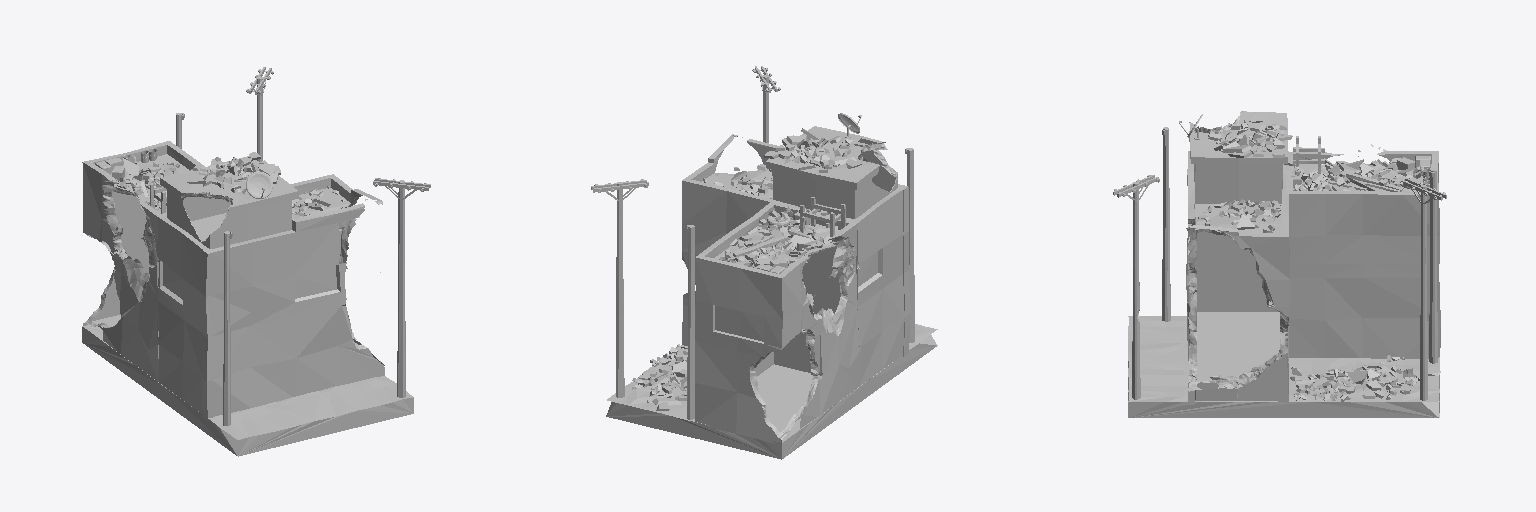
The model's file is buildingnormal.obj.
3 renders of one model, left to right at view 1: azimuth 30°, elevation 25°; view 2: azimuth 150°, elevation 25°; view 3: azimuth 270°, elevation 25°, orthographic.
Parts seen in each view (by area): view 1: 16; view 2: 16; view 3: 16.
Part boxes in pixels (x1,y1,x2,y2): 16: (82,67,430,456); 16: (591,66,937,459); 16: (1113,111,1446,417).
Size of the model in its own units: 5.65 by 6.85 by 8.49.